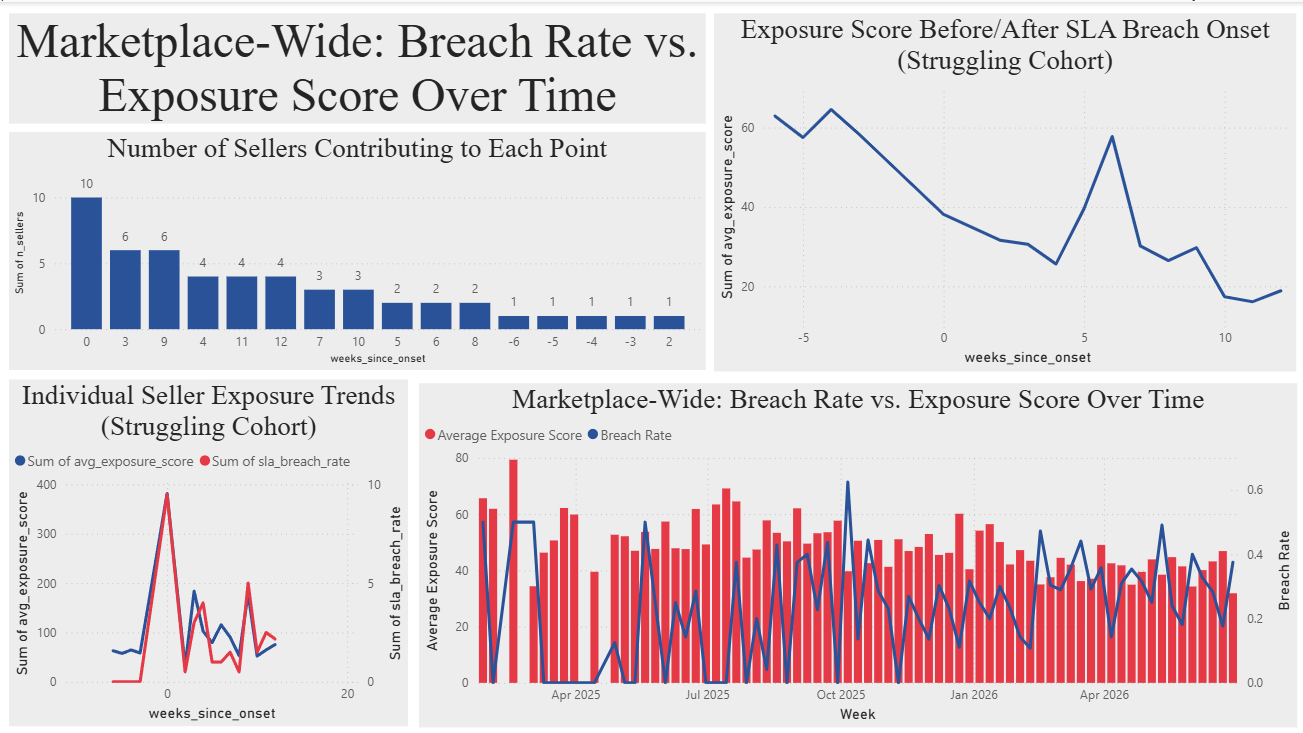

Layout of this report page (visuals, bound fields, positions):
{"tool":"powerbi","page":{"name":"Trends","canvas":[1280,720],"ordinal":1},"visuals":[{"type":"textbox","title":"Marketplace-Wide: Breach Rate vs.       Exposure Score Over Time","box":[9.2,10.5,681.6,107.9],"z":0},{"type":"lineClusteredColumnComboChart","title":"Marketplace-Wide: Breach Rate vs. Exposure Score Over Time","fields":{"Y":["Avg(seller_week_master.avg_exposure_score)"],"Y2":["Avg(seller_week_master.sla_breach_rate)"],"Category":["seller_week_master.week"]},"box":[410.5,372.4,859.2,336.8],"z":1000},{"type":"lineChart","title":"Exposure Score Before/After SLA Breach Onset (Struggling Cohort)","fields":{"Category":["aligned_trend.weeks_since_onset"],"Y":["Sum(aligned_trend.avg_exposure_score)"]},"box":[700,10.5,569.7,350],"z":2000},{"type":"clusteredColumnChart","title":"Number of Sellers Contributing to Each Point","fields":{"Category":["aligned_trend.weeks_since_onset"],"Y":["Sum(aligned_trend.n_sellers)"]},"box":[9.2,127.6,681.6,232.9],"z":3000},{"type":"lineChart","title":"Individual Seller Exposure Trends (Struggling Cohort)","fields":{"Category":["aligned_individual.weeks_since_onset"],"Y":["Sum(aligned_individual.avg_exposure_score)"],"Y2":["Sum(aligned_individual.sla_breach_rate)"]},"box":[9.2,369.7,390.8,339.5],"z":4000}]}

Visuals, with their boxes in screenshot pixels (x1, y1, x2, y2), scaled from the page's 1280x720 canvas onto the 1303x733 screenshot:
"Marketplace-Wide: Breach Rate vs.       Exposure Score Over Time" textbox: [9, 11, 703, 121]
"Marketplace-Wide: Breach Rate vs. Exposure Score Over Time" lineClusteredColumnComboChart: [418, 379, 1293, 722]
"Exposure Score Before/After SLA Breach Onset (Struggling Cohort)" lineChart: [713, 11, 1293, 367]
"Number of Sellers Contributing to Each Point" clusteredColumnChart: [9, 130, 703, 367]
"Individual Seller Exposure Trends (Struggling Cohort)" lineChart: [9, 376, 407, 722]
